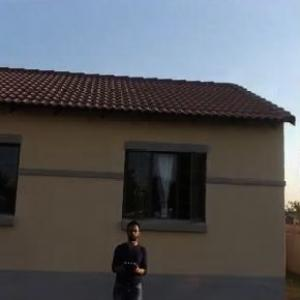follow: (105, 210, 151, 299)
